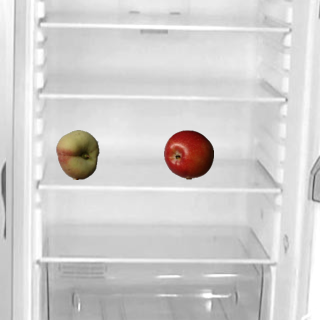Apple Braeburn: (163, 129, 213, 179)
Peach Flat: (52, 129, 102, 179)
